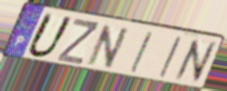I: (157, 35, 183, 80), (128, 30, 154, 75)
N: (85, 24, 132, 71), (172, 37, 218, 84)
U: (25, 11, 76, 60)
Z: (54, 18, 100, 67)
